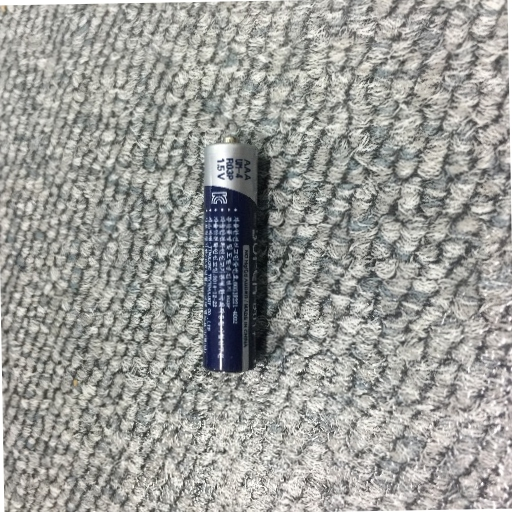Battery_0: (191, 128, 271, 378)
